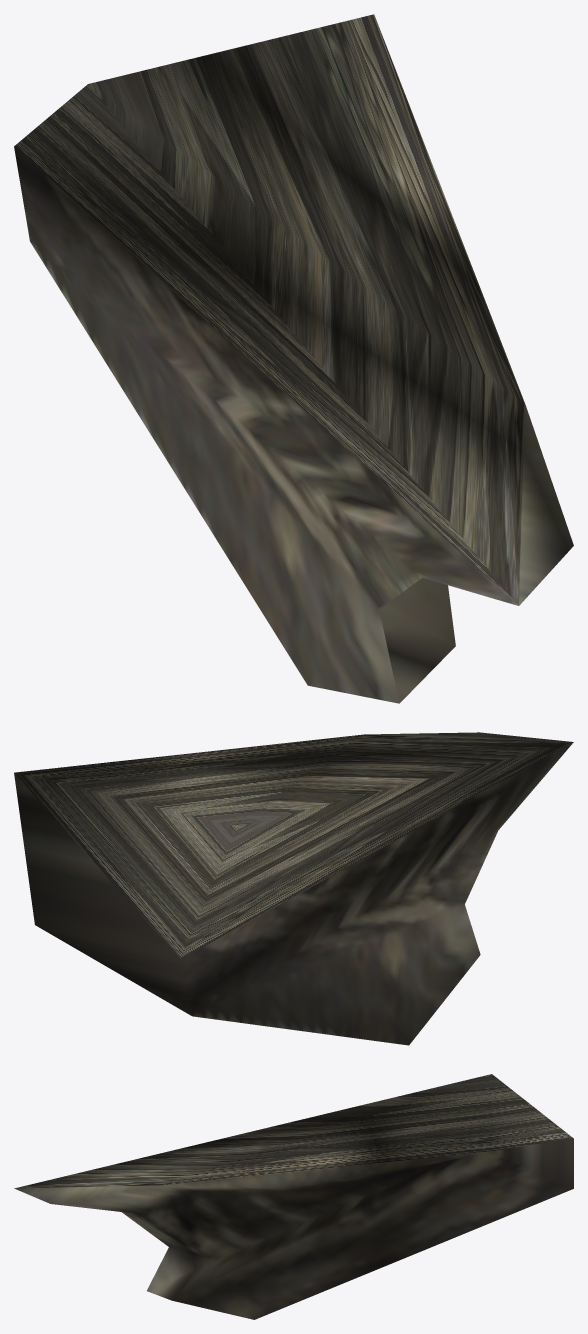
File: LeftJaw.fbx
3 renders of one model, top to bottom at view 1: azimuth 30°, elevation 25°; view 2: azimuth 150°, elevation 25°; view 3: azimuth 270°, elevation 25°, orthographic. The views are drawn at different scales.
Parts seen in each view (by area): view 1: Statue07_c; view 2: Statue07_c; view 3: Statue07_c.
Part boxes in pixels (<box>): Statue07_c: <box>14,14,573,703</box>; Statue07_c: <box>14,732,573,1045</box>; Statue07_c: <box>14,1074,573,1319</box>.
Bounding box in the file's own units: 13.91 × 20.46 × 42.5.
